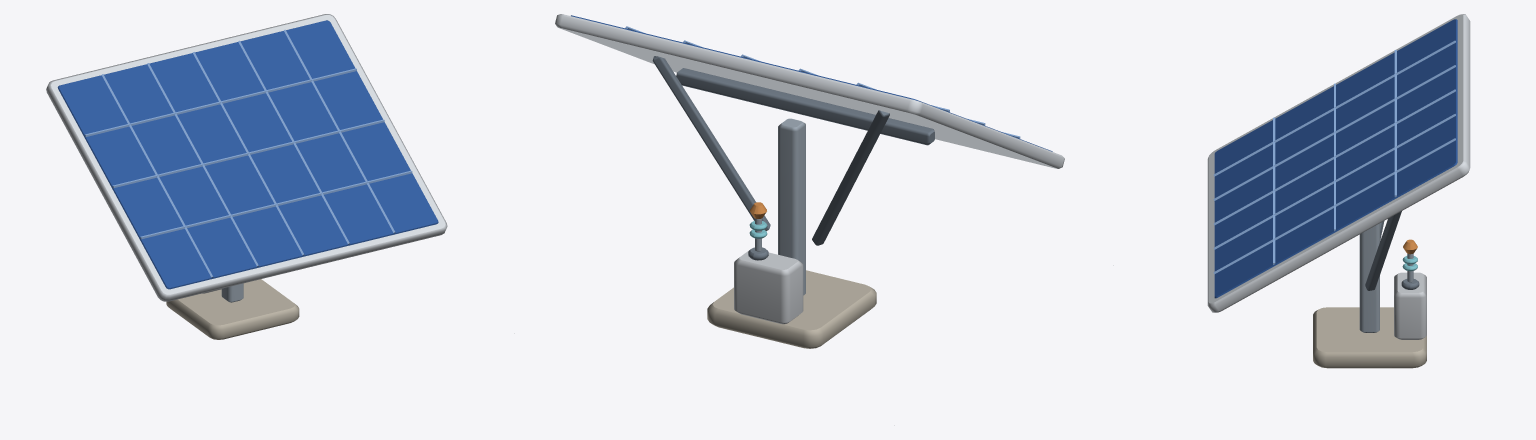
Rendered from panneau_solaire.glb.
3 renders of one model, left to right at view 1: azimuth 30°, elevation 25°; view 2: azimuth 150°, elevation 25°; view 3: azimuth 270°, elevation 25°, orthographic. The views are drawn at different scales.
Visible parts, largest first — view 1: pieces_solaire.002, pieces_solaire_cadre.002, pieces_solaire_ligne.002, pieces_socle_beton.006; view 2: pieces_solaire_cadre.002, pieces_pylone_sombre.006, pieces_socle_beton.006, pieces_coffret.006, pieces_pylone.006, pieces_solaire.002; view 3: pieces_solaire.002, pieces_solaire_cadre.002, pieces_socle_beton.006, pieces_solaire_ligne.002, pieces_coffret.006, pieces_pylone.006, pieces_pylone_sombre.006.
Boxes of the visible parts, left/top/right/bottom form: pieces_solaire.002: left=57, top=20, right=438, bottom=289; pieces_solaire_cadre.002: left=46, top=14, right=447, bottom=301; pieces_solaire_ligne.002: left=84, top=29, right=412, bottom=277; pieces_socle_beton.006: left=166, top=279, right=299, bottom=339; pieces_solaire_cadre.002: left=555, top=14, right=1064, bottom=168; pieces_pylone_sombre.006: left=652, top=56, right=934, bottom=260; pieces_socle_beton.006: left=707, top=270, right=876, bottom=348; pieces_coffret.006: left=734, top=250, right=803, bottom=324; pieces_pylone.006: left=755, top=118, right=805, bottom=295; pieces_solaire.002: left=571, top=15, right=1052, bottom=151; pieces_solaire.002: left=1214, top=19, right=1457, bottom=298; pieces_solaire_cadre.002: left=1207, top=14, right=1470, bottom=312; pieces_socle_beton.006: left=1313, top=307, right=1426, bottom=368; pieces_solaire_ligne.002: left=1213, top=40, right=1455, bottom=274; pieces_coffret.006: left=1394, top=272, right=1426, bottom=339; pieces_pylone.006: left=1359, top=223, right=1413, bottom=332; pieces_pylone_sombre.006: left=1365, top=211, right=1419, bottom=290.
Size of the model in its own units: 1.5 by 1.12 by 1.5.
